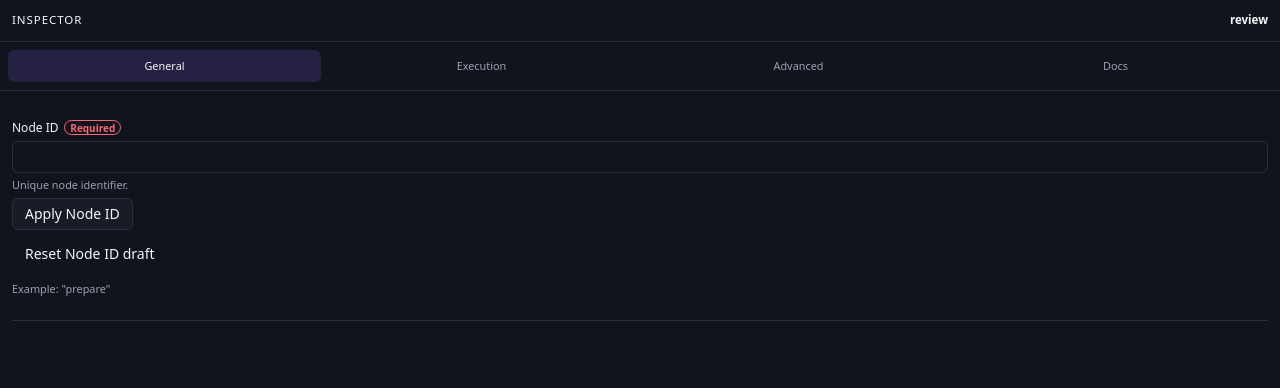
Inspector › keeps the header and tabs outside the bounded panel scroll owner
The image size is (1280, 388).
Click the tab "Advanced" at point(798, 66), box [642,50,955,82]
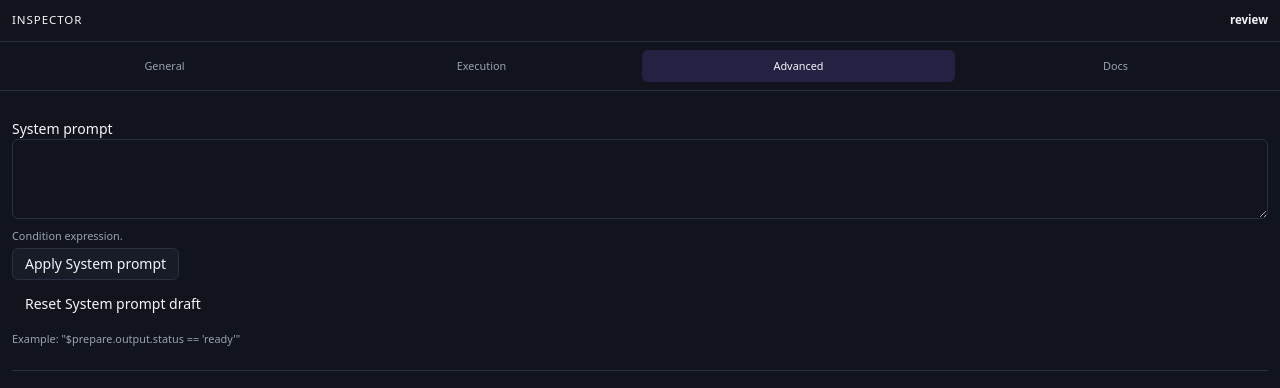
Now the text box labelled "System prompt" is shown, box [12,139,1268,219]
